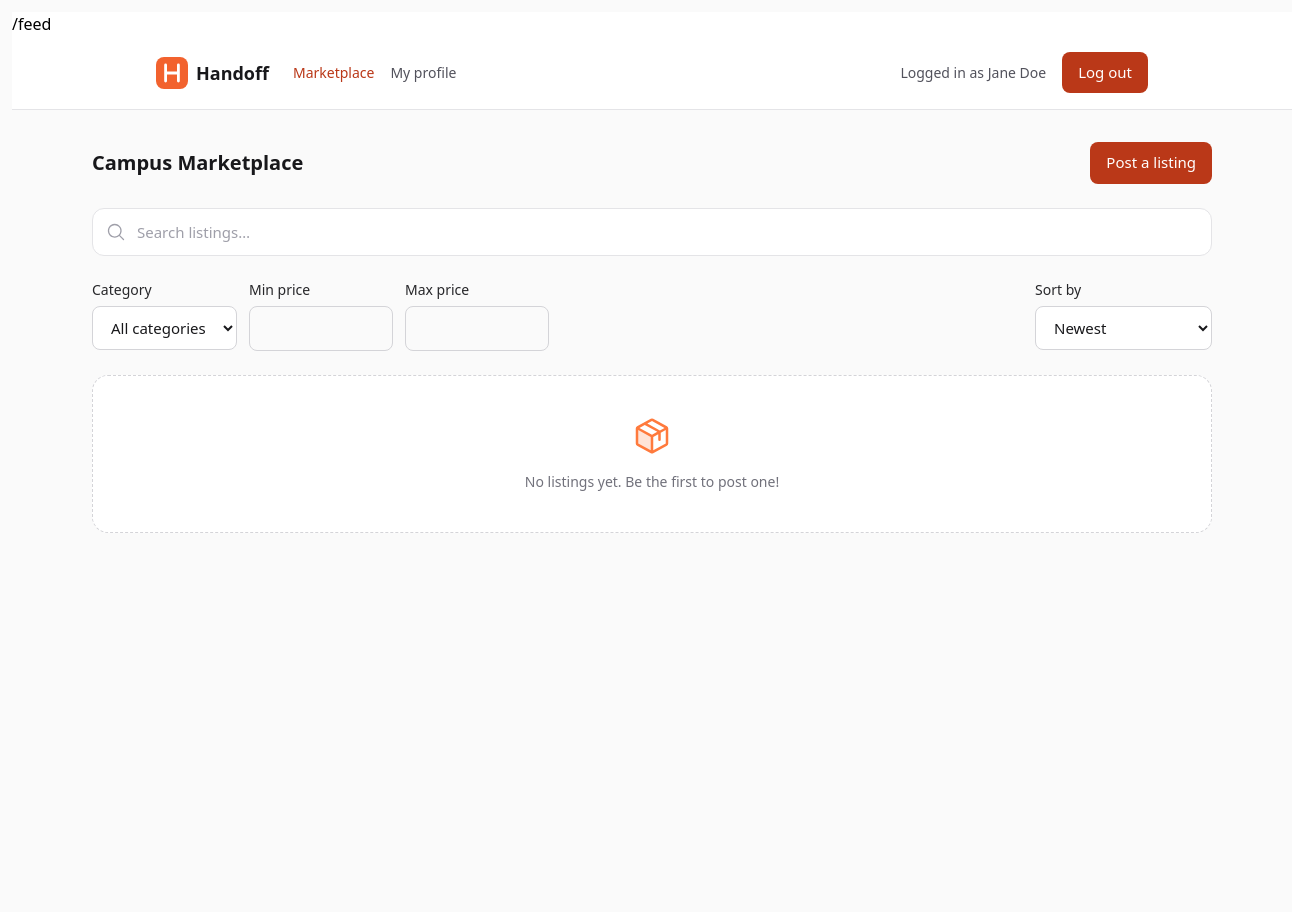
FeedPage › choosing a category alone uses the search API
The image size is (1292, 912).
Select "Furniture" in the dropdown labelled "Category". click: (164, 328)
box: [92,306,237,350]
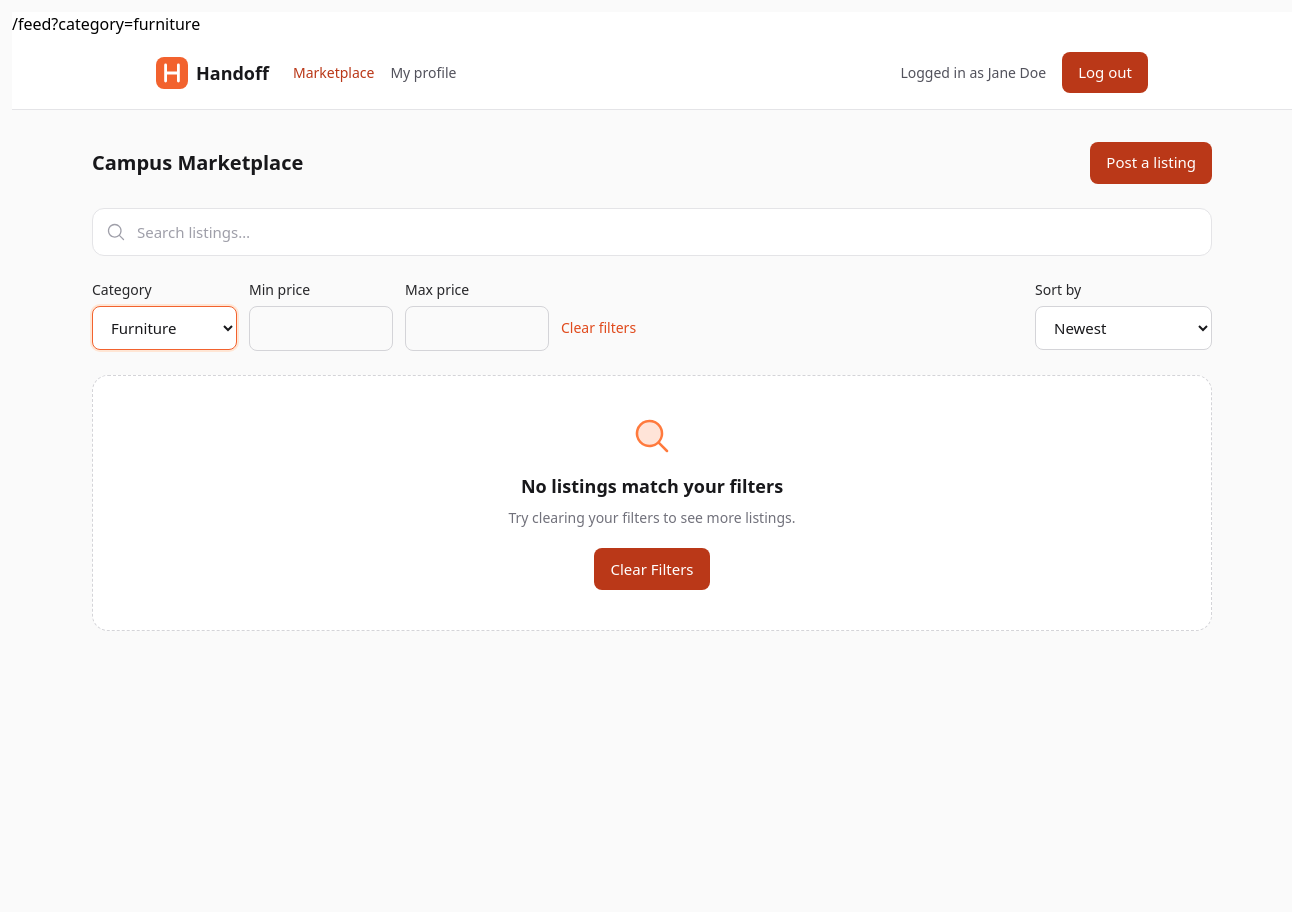
Expected: the text with test id "location" reads "/feed?category=furniture", [12,13,200,35]
